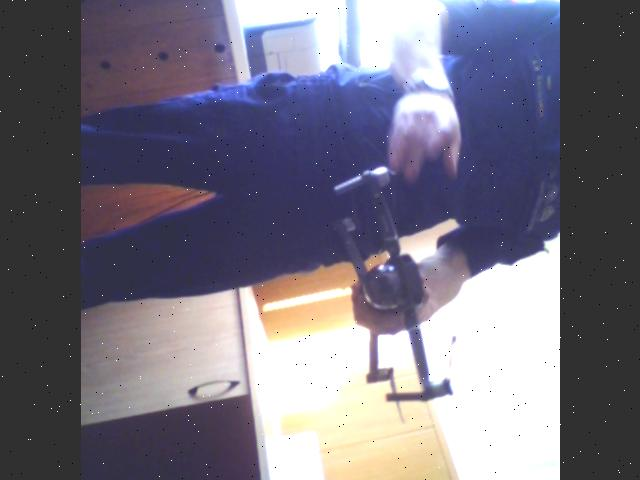drone: (315, 151, 471, 421)
